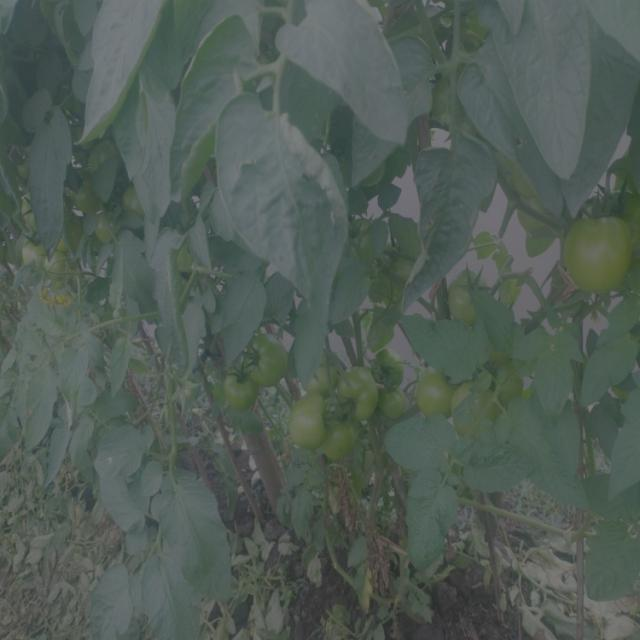tomato: (569, 221, 634, 293), (21, 210, 75, 273), (447, 275, 504, 329), (457, 379, 495, 441), (290, 390, 328, 443), (340, 365, 379, 415), (413, 369, 449, 421), (253, 341, 294, 379), (350, 151, 389, 189), (521, 190, 554, 232), (347, 212, 375, 259), (594, 192, 640, 218), (223, 372, 253, 411), (381, 388, 416, 420), (78, 182, 105, 218), (171, 239, 197, 274), (436, 81, 458, 122), (333, 424, 361, 452), (501, 366, 520, 402), (94, 222, 122, 245), (124, 190, 144, 214)
